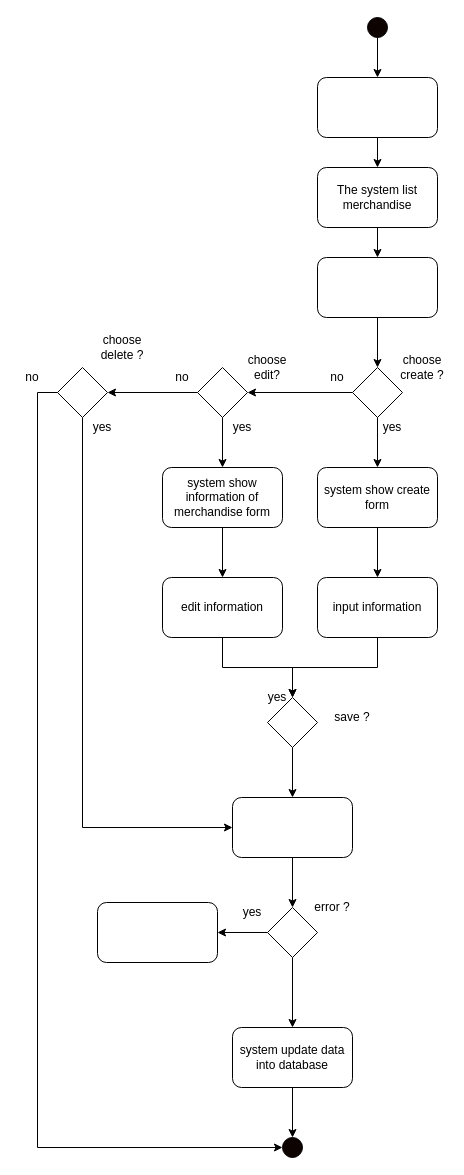
This 464x1175 diagram has some shape labels left out. The shapes that lost their labels are listed below. From the top down, each one's box as (x1, y1, x2, y2) in pixels, then its label:
(316, 76, 438, 138): choose merchandise management
(316, 256, 438, 318): actor see list
(232, 796, 352, 858): system validate information
(96, 902, 218, 962): show error message
